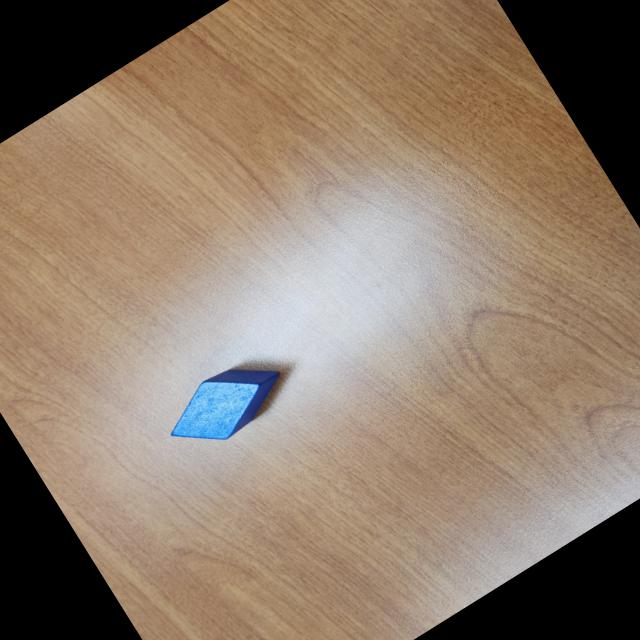blue: (154, 342, 296, 463)
